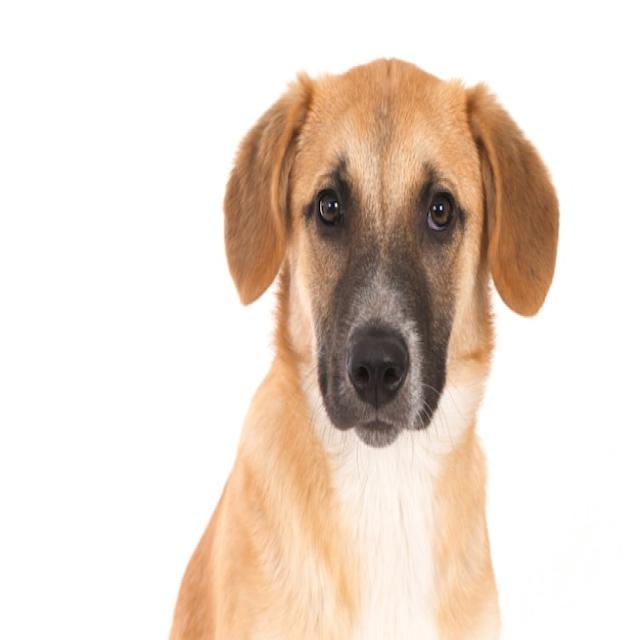Dog: (170, 58, 559, 640)
